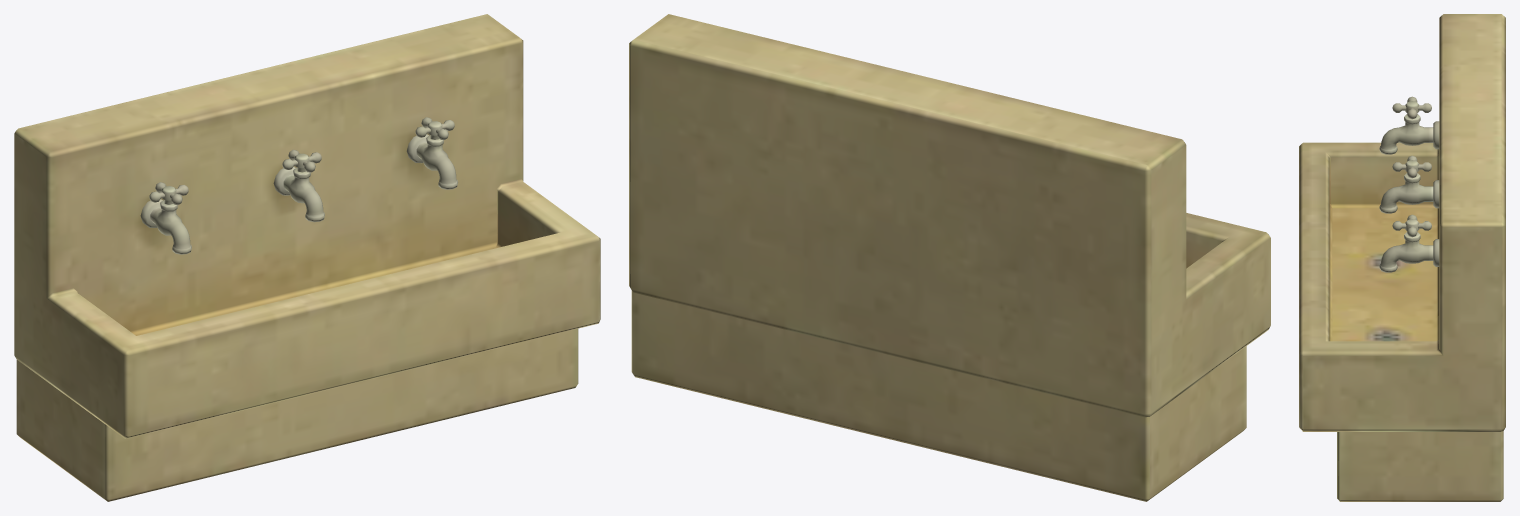
3 views of the same model, side by side, from view 1: azimuth 30°, elevation 25°; view 2: azimuth 150°, elevation 25°; view 3: azimuth 270°, elevation 25° (orthographic). The views are drawn at different scales.
Bounding box in the file's own units: 19.61 × 12.12 × 8.1.
1 material, 1 textured.
